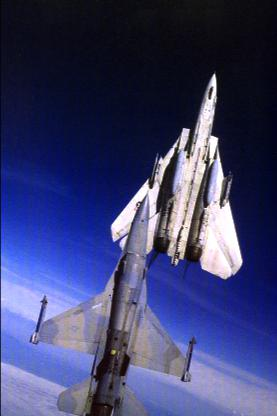EF2000: (110, 70, 241, 280)
F14: (29, 189, 198, 415)
